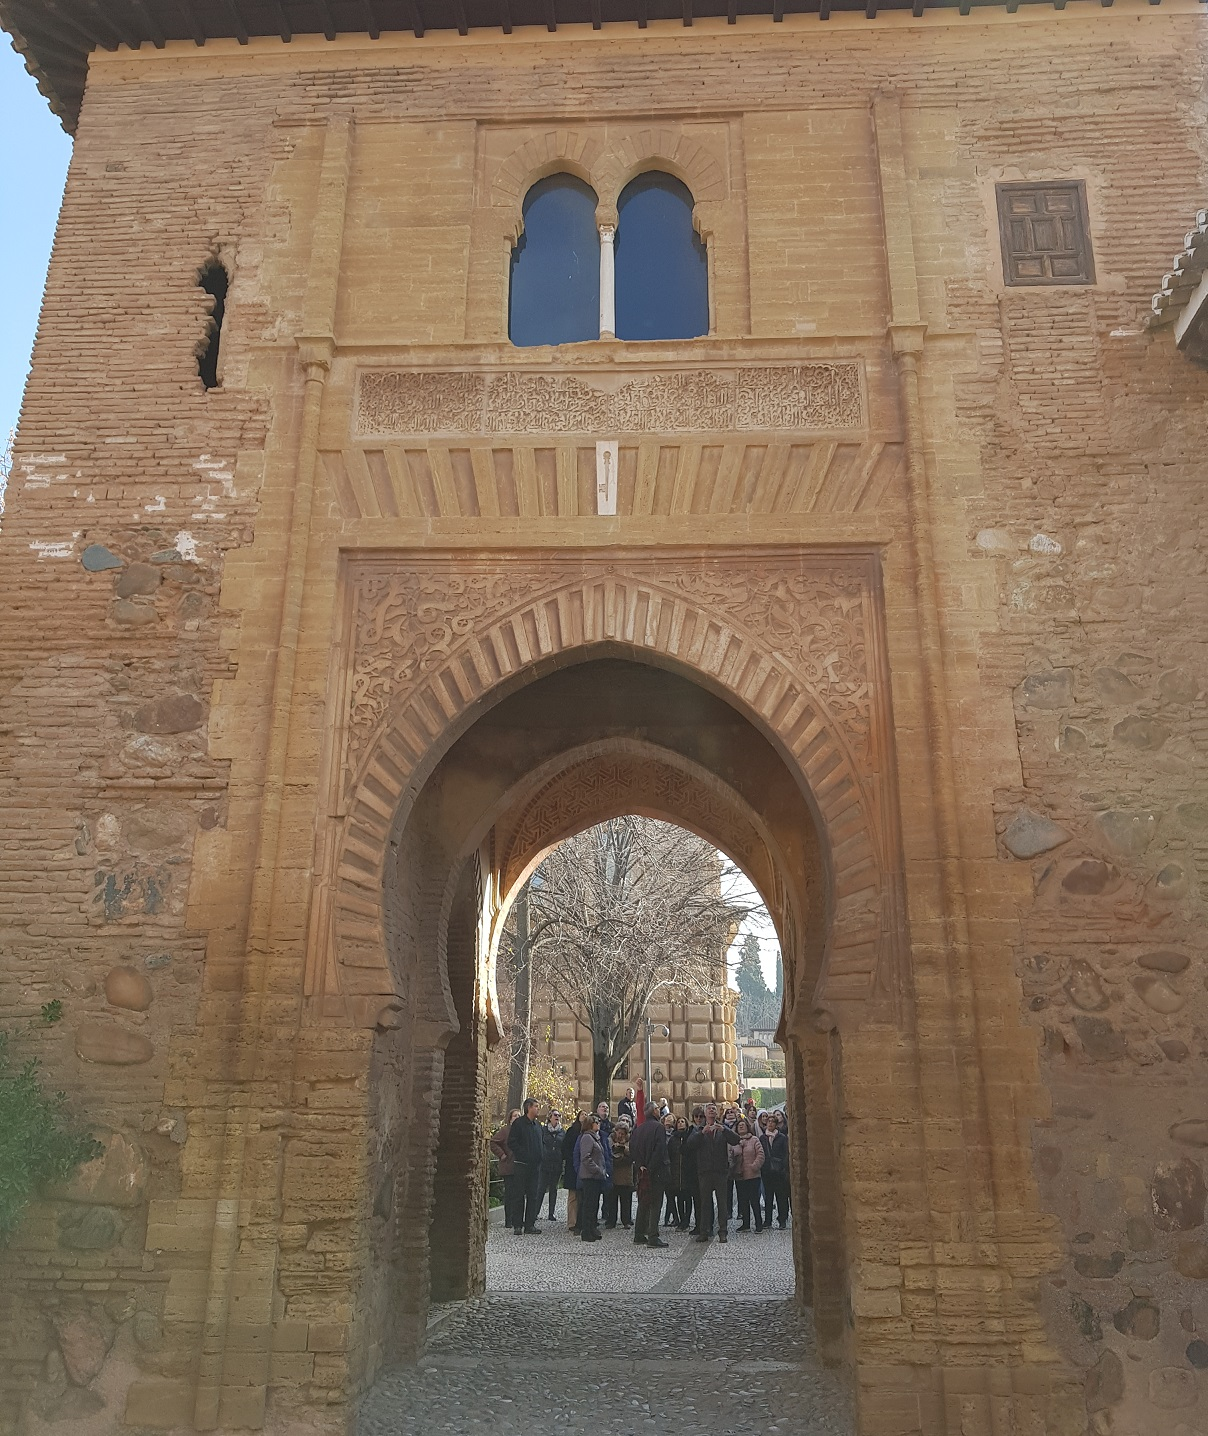arco-herradura: (345, 619, 870, 1057), (609, 147, 712, 240), (509, 153, 608, 239)
dintel-adovelado: (318, 438, 910, 525)
